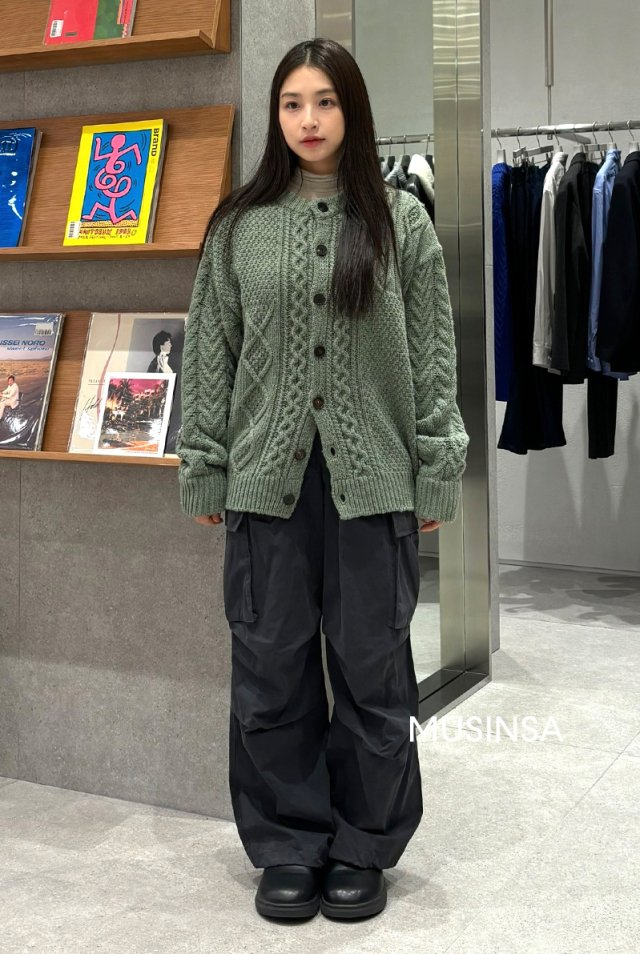Outer: (173, 174, 478, 532)
Pants: (228, 484, 431, 870)
Shoes: (248, 855, 404, 919)
